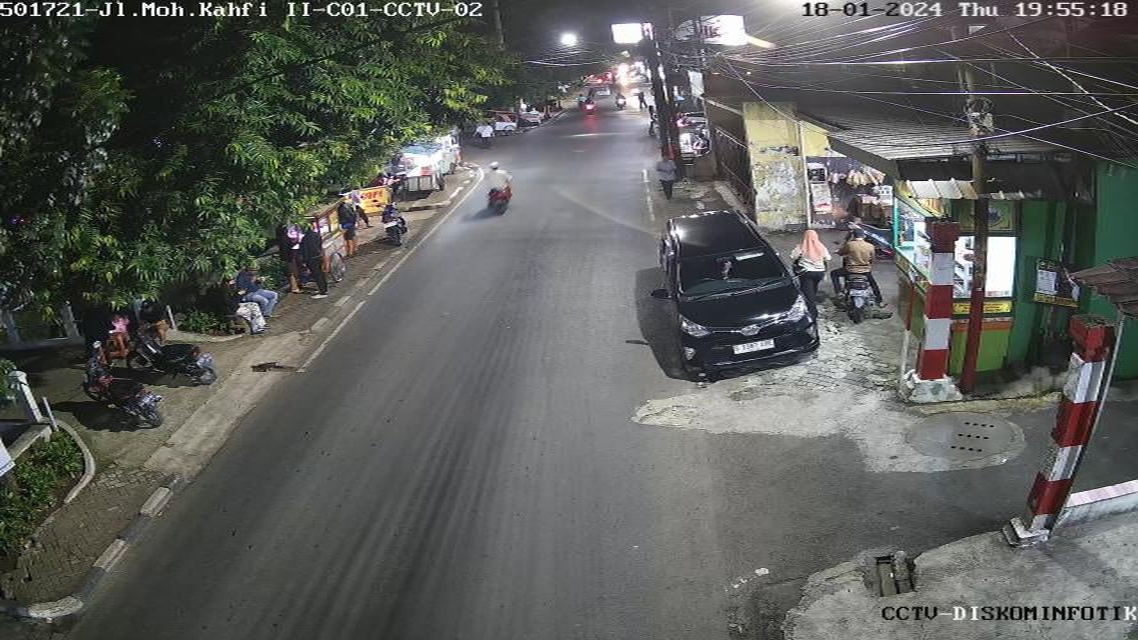Gerobak: (283, 203, 359, 285), (398, 142, 457, 194), (349, 183, 399, 228), (484, 105, 525, 138), (523, 111, 544, 127)
